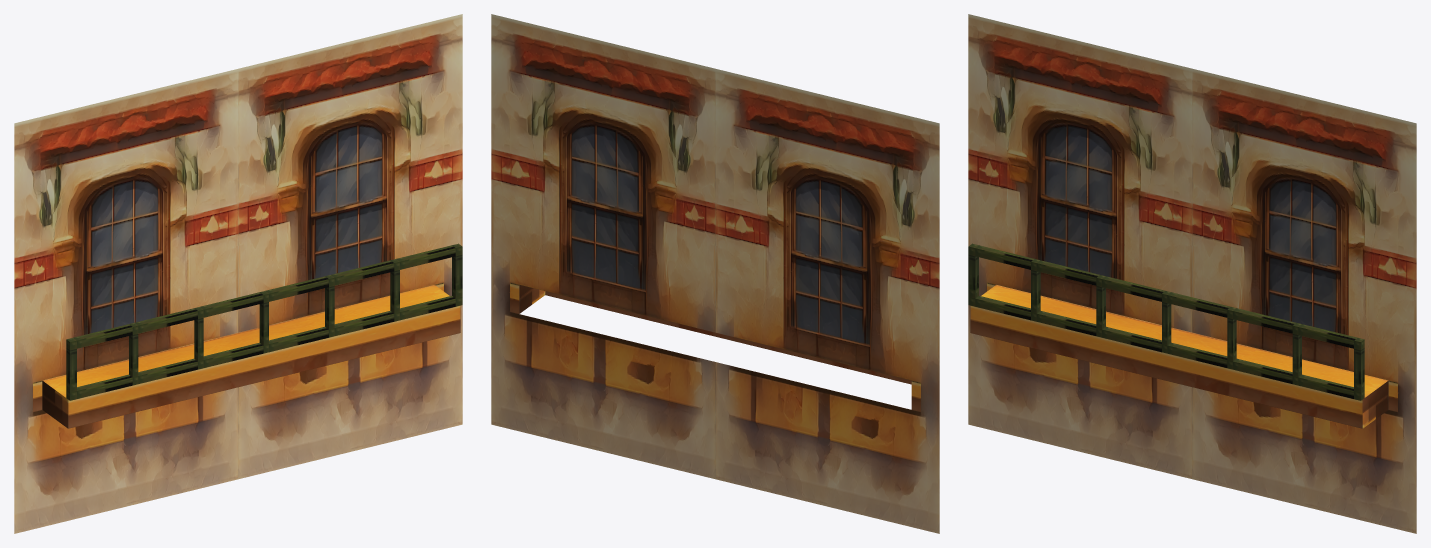
Rendered from SPN_U_Bay4B.fbx.
The picture shows the model from 3 angles, left to right: view 1: azimuth 30°, elevation 25°; view 2: azimuth 150°, elevation 25°; view 3: azimuth 330°, elevation 25°; orthographic projection.
Parts seen in each view (by area): view 1: SPN_U_Bay4B; view 2: SPN_U_Bay4B; view 3: SPN_U_Bay4B.
Boxes of the visible parts, x1=… form: SPN_U_Bay4B: x1=14, y1=14, x2=462, y2=533; SPN_U_Bay4B: x1=491, y1=14, x2=939, y2=533; SPN_U_Bay4B: x1=968, y1=14, x2=1416, y2=533.
Bounding box in the file's own units: 4 × 0.43 × 3.5.
1 material, 1 textured.
